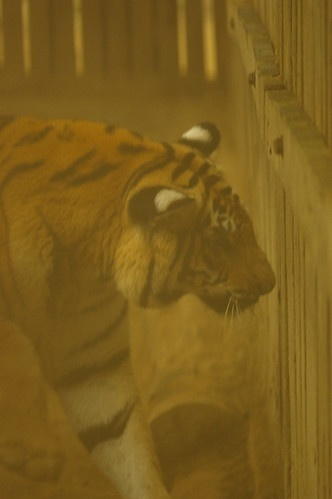tigre: (1, 105, 281, 498)
